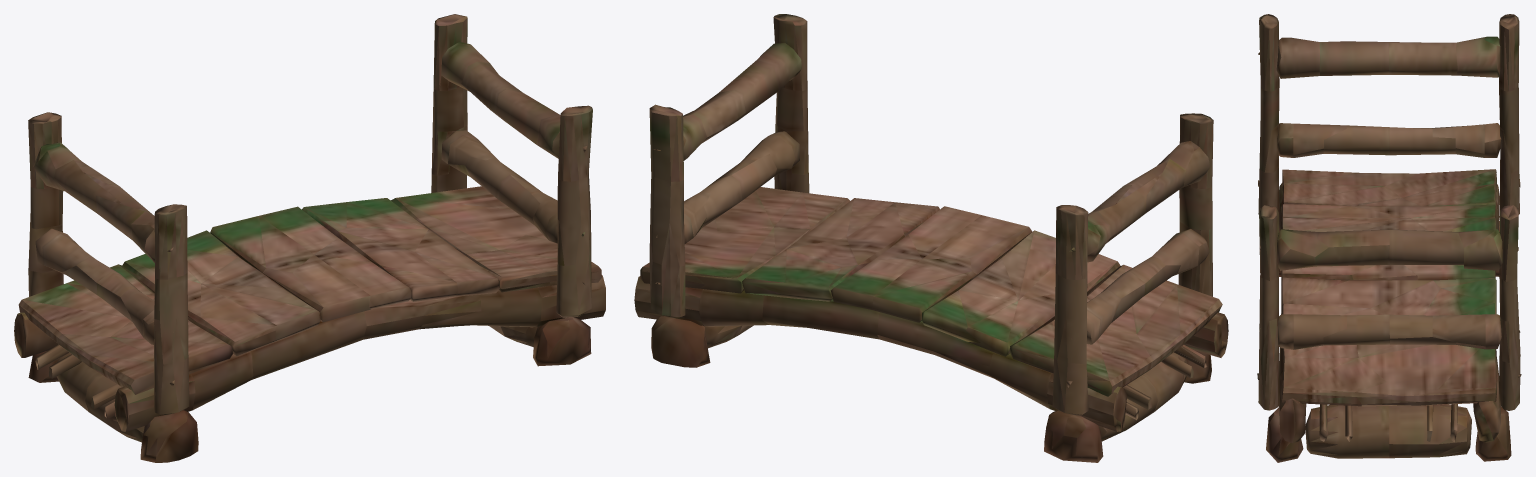
The model's file is Bridge.lod1.glb.
3 renders of one model, left to right at view 1: azimuth 30°, elevation 25°; view 2: azimuth 150°, elevation 25°; view 3: azimuth 270°, elevation 25°, orthographic. The views are drawn at different scales.
Bounding box in the file's own units: 4 × 2.06 × 1.99.
1 material, 1 textured.
